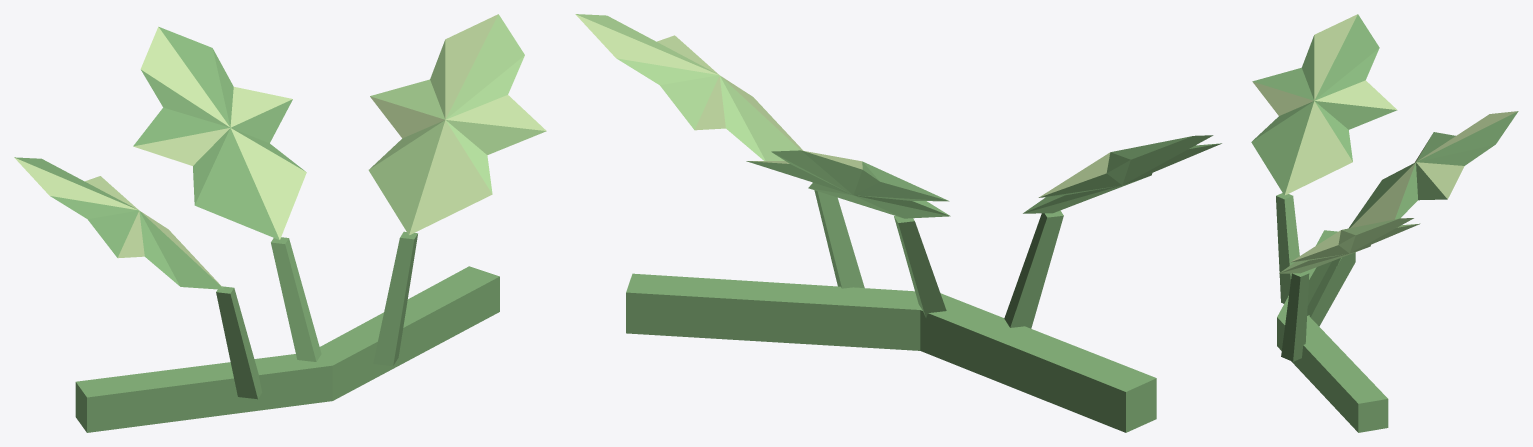
The model's file is crop_pumpkin_s1.glb.
3 views of the same model, side by side, from view 1: azimuth 30°, elevation 25°; view 2: azimuth 150°, elevation 25°; view 3: azimuth 270°, elevation 25° (orthographic). The views are drawn at different scales.
Visible parts, largest first — view 1: crop_pumpkin_s1; view 2: crop_pumpkin_s1; view 3: crop_pumpkin_s1.
Boxes of the visible parts, x1=… form: crop_pumpkin_s1: x1=14, y1=14, x2=546, y2=432; crop_pumpkin_s1: x1=575, y1=14, x2=1221, y2=432; crop_pumpkin_s1: x1=1251, y1=14, x2=1518, y2=432.
Bounding box in the file's own units: 0.3615 × 0.185 × 0.2.
